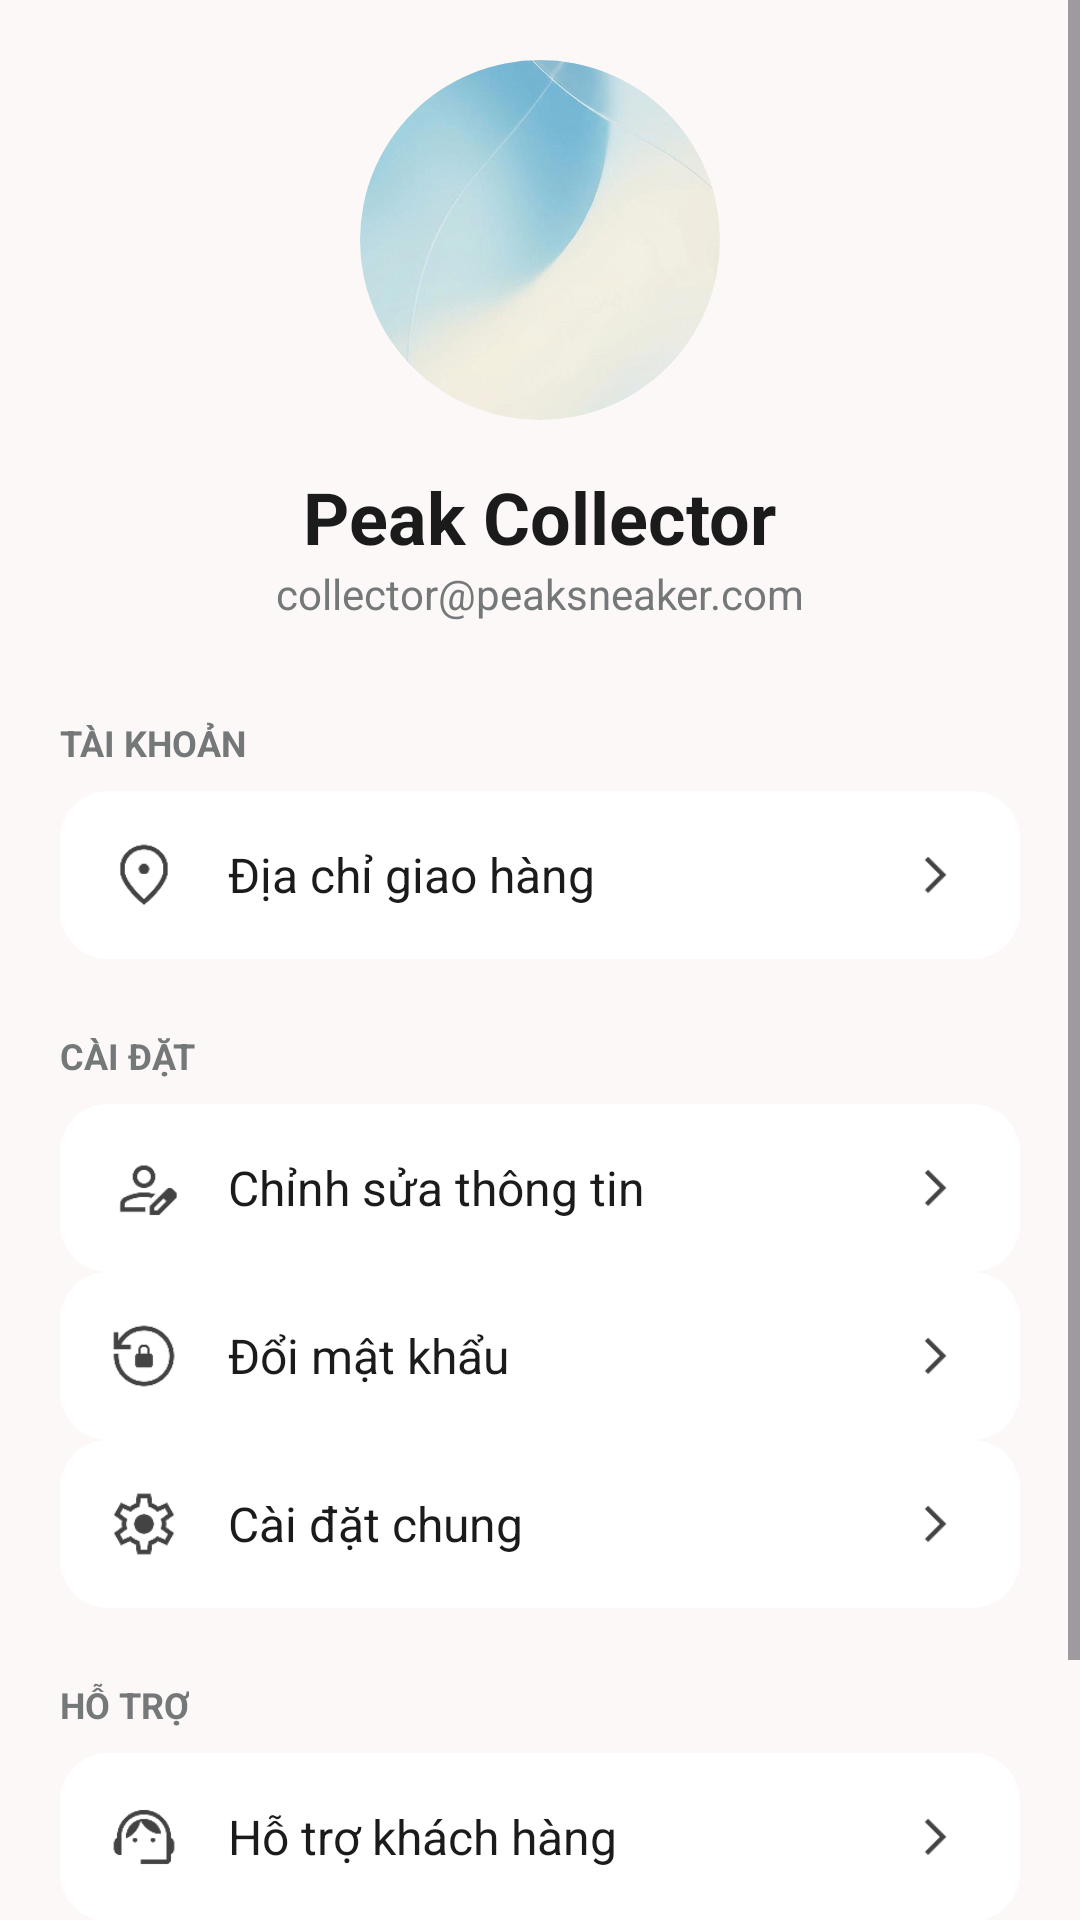

Named icons in this screenshot (1080x1920) and their centers, (x,y):
chevron right: (935,875), (935,1188), (935,1356), (935,1524), (935,1837)
location on: (144,874)
lock reset: (144,1356)
person edit: (148,1190)
settings: (144,1524)
support agent: (144,1837)
